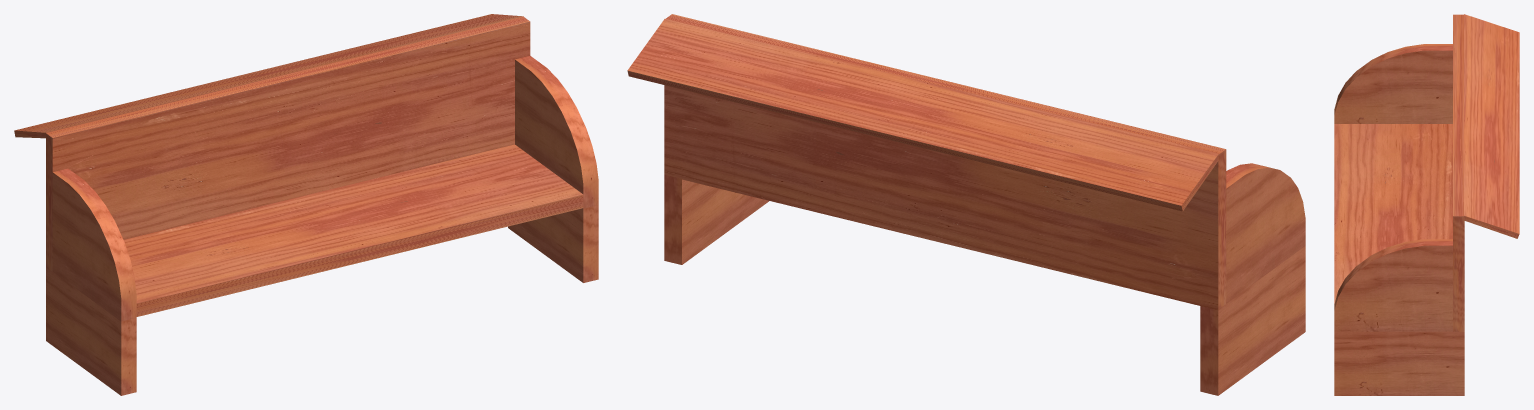
Rendered from banca.obj.
3 renders of one model, left to right at view 1: azimuth 30°, elevation 25°; view 2: azimuth 150°, elevation 25°; view 3: azimuth 270°, elevation 25°, orthographic. The views are drawn at different scales.
Visible parts, largest first — view 1: polySurface12; view 2: polySurface12; view 3: polySurface12.
Boxes of the visible parts, x1,y1,x2,y2 form: polySurface12: (14,14,598,395); polySurface12: (627,14,1305,395); polySurface12: (1334,14,1519,395).
Bounding box in the file's own units: 4.03 × 1.68 × 1.56.
Materials: 5 (5 with a texture image).
